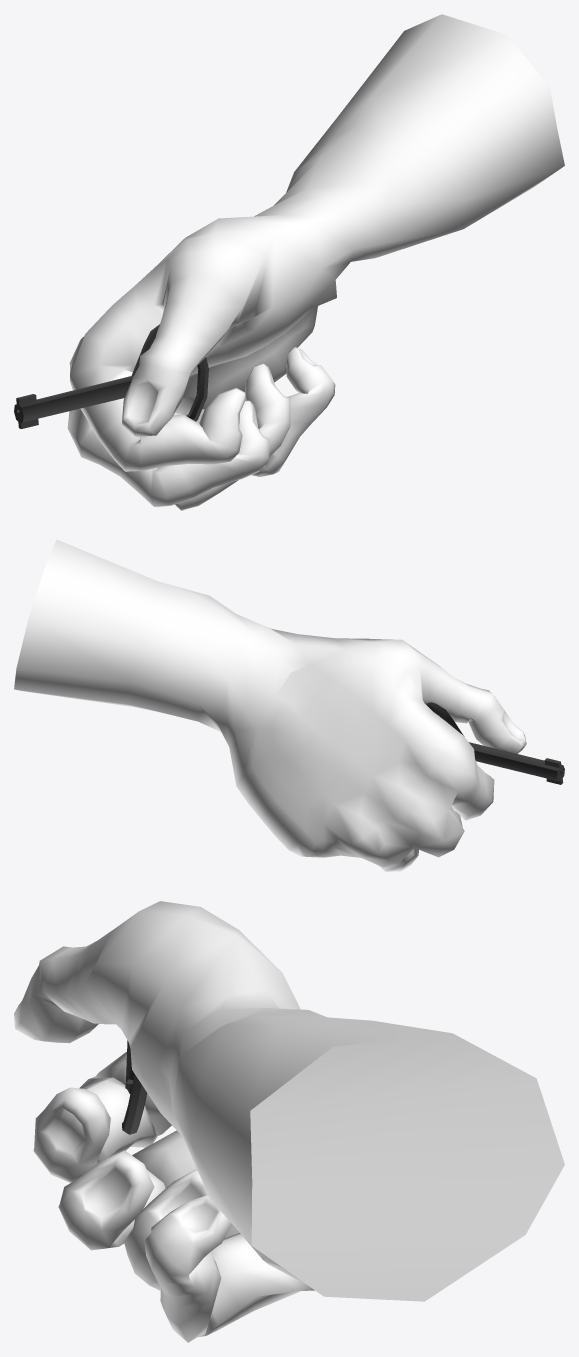
The model's file is HandWithKey.FBX.
3 renders of one model, top to bottom at view 1: azimuth 30°, elevation 25°; view 2: azimuth 150°, elevation 25°; view 3: azimuth 270°, elevation 25°, orthographic. The views are drawn at different scales.
Visible parts, largest first — view 1: Brazos003; view 2: Brazos003; view 3: Brazos003.
Boxes of the visible parts, bbox=[...] form: Brazos003: bbox=[14, 14, 564, 510]; Brazos003: bbox=[14, 539, 564, 872]; Brazos003: bbox=[14, 901, 564, 1342].
Size of the model in its own units: 27.53 by 15.85 by 15.14.
